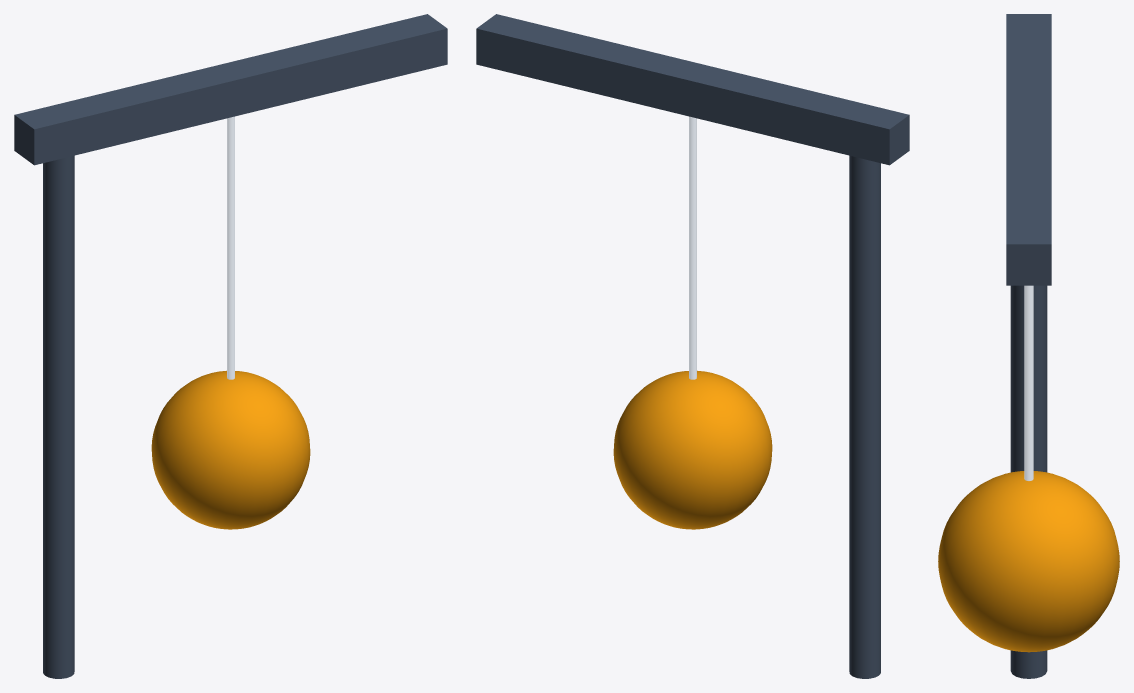
3 renders of one model, left to right at view 1: azimuth 30°, elevation 25°; view 2: azimuth 150°, elevation 25°; view 3: azimuth 270°, elevation 25°, orthographic. The views are drawn at different scales.
Size of the model in its own units: 1.2 by 1.55 by 0.4.
